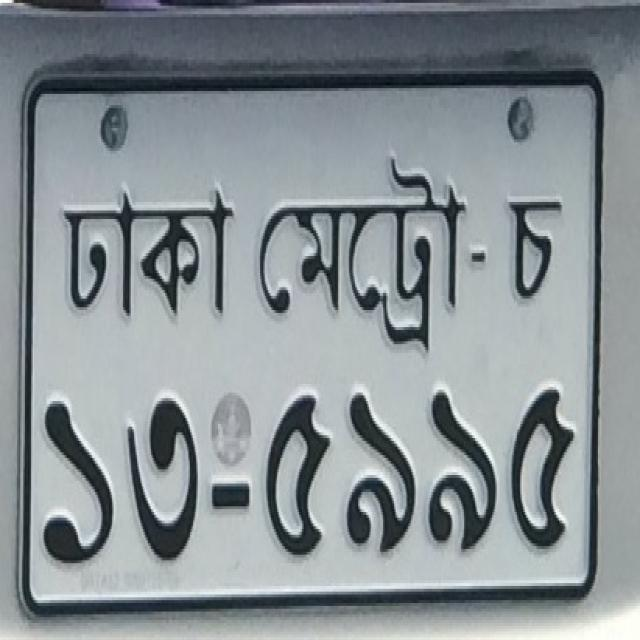numberplate: (19, 65, 602, 609)
